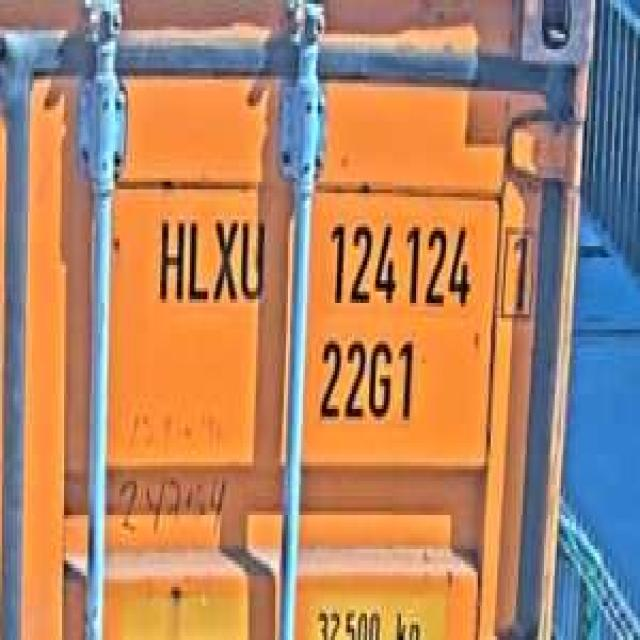dv: (495, 212, 538, 326)
owner: (154, 204, 268, 314)
serial: (322, 208, 474, 318)
size: (314, 329, 416, 428)
